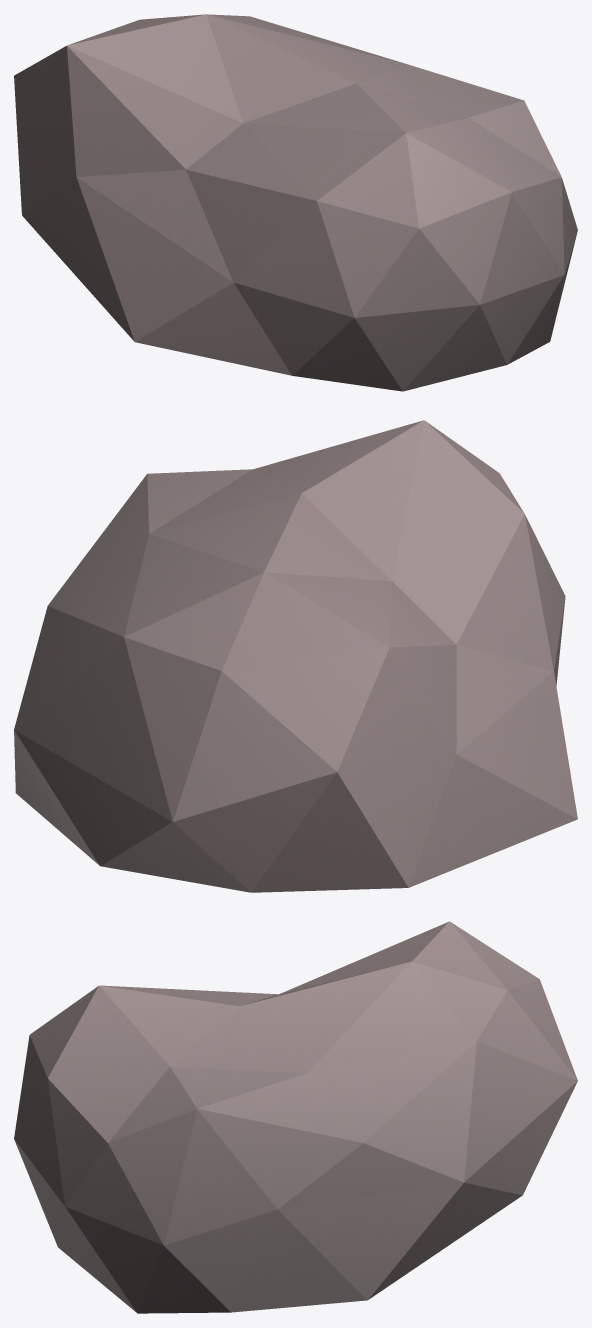
The model's file is SM_Rock06_Var1.fbx.
3 renders of one model, top to bottom at view 1: azimuth 30°, elevation 25°; view 2: azimuth 150°, elevation 25°; view 3: azimuth 270°, elevation 25°, orthographic. The views are drawn at different scales.
Parts seen in each view (by area): view 1: MediumRock02; view 2: MediumRock02; view 3: MediumRock02.
Part boxes in pixels (<box>): MediumRock02: <box>14,14,577,391</box>; MediumRock02: <box>14,420,577,892</box>; MediumRock02: <box>14,921,577,1313</box>.
Size of the model in its own units: 213 by 137 by 269.
